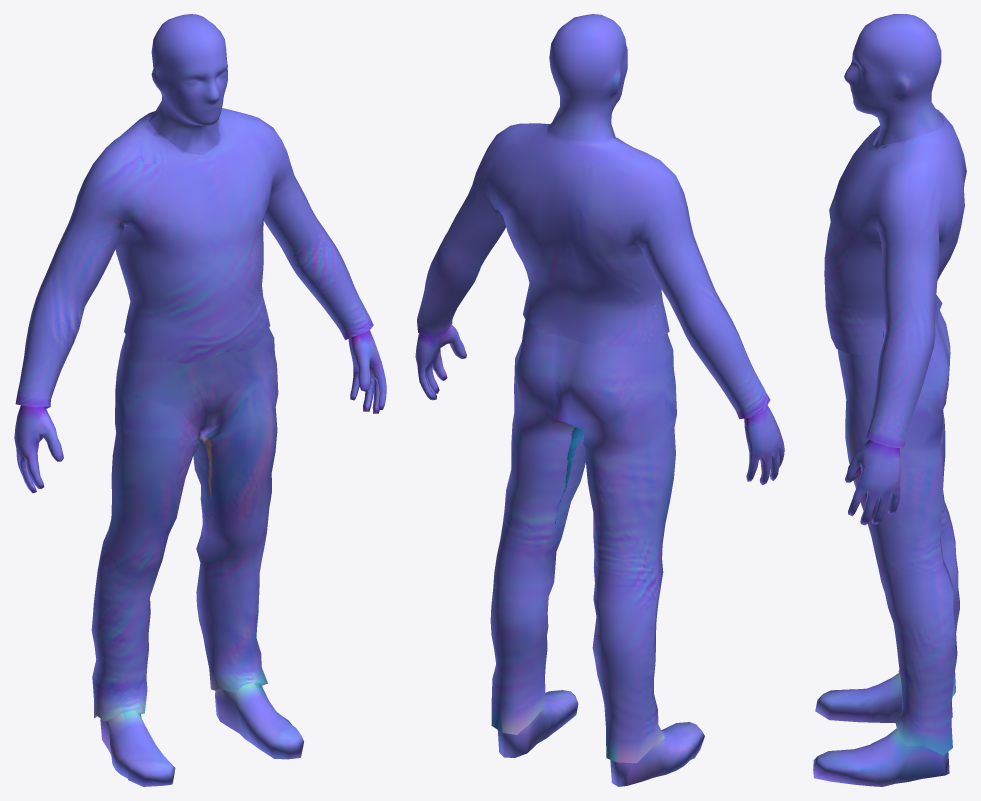
Rendered from cilveks2.obj.
3 views of the same model, side by side, from view 1: azimuth 30°, elevation 25°; view 2: azimuth 150°, elevation 25°; view 3: azimuth 270°, elevation 25° (orthographic).
Visible parts, largest first — view 1: humanBody; view 2: humanBody; view 3: humanBody.
Part boxes in pixels (x1,y1,x2,y2): humanBody: (14, 14, 386, 786); humanBody: (415, 14, 784, 786); humanBody: (813, 14, 966, 786).
Bounding box in the file's own units: 1.23 × 2.4 × 0.4573.
